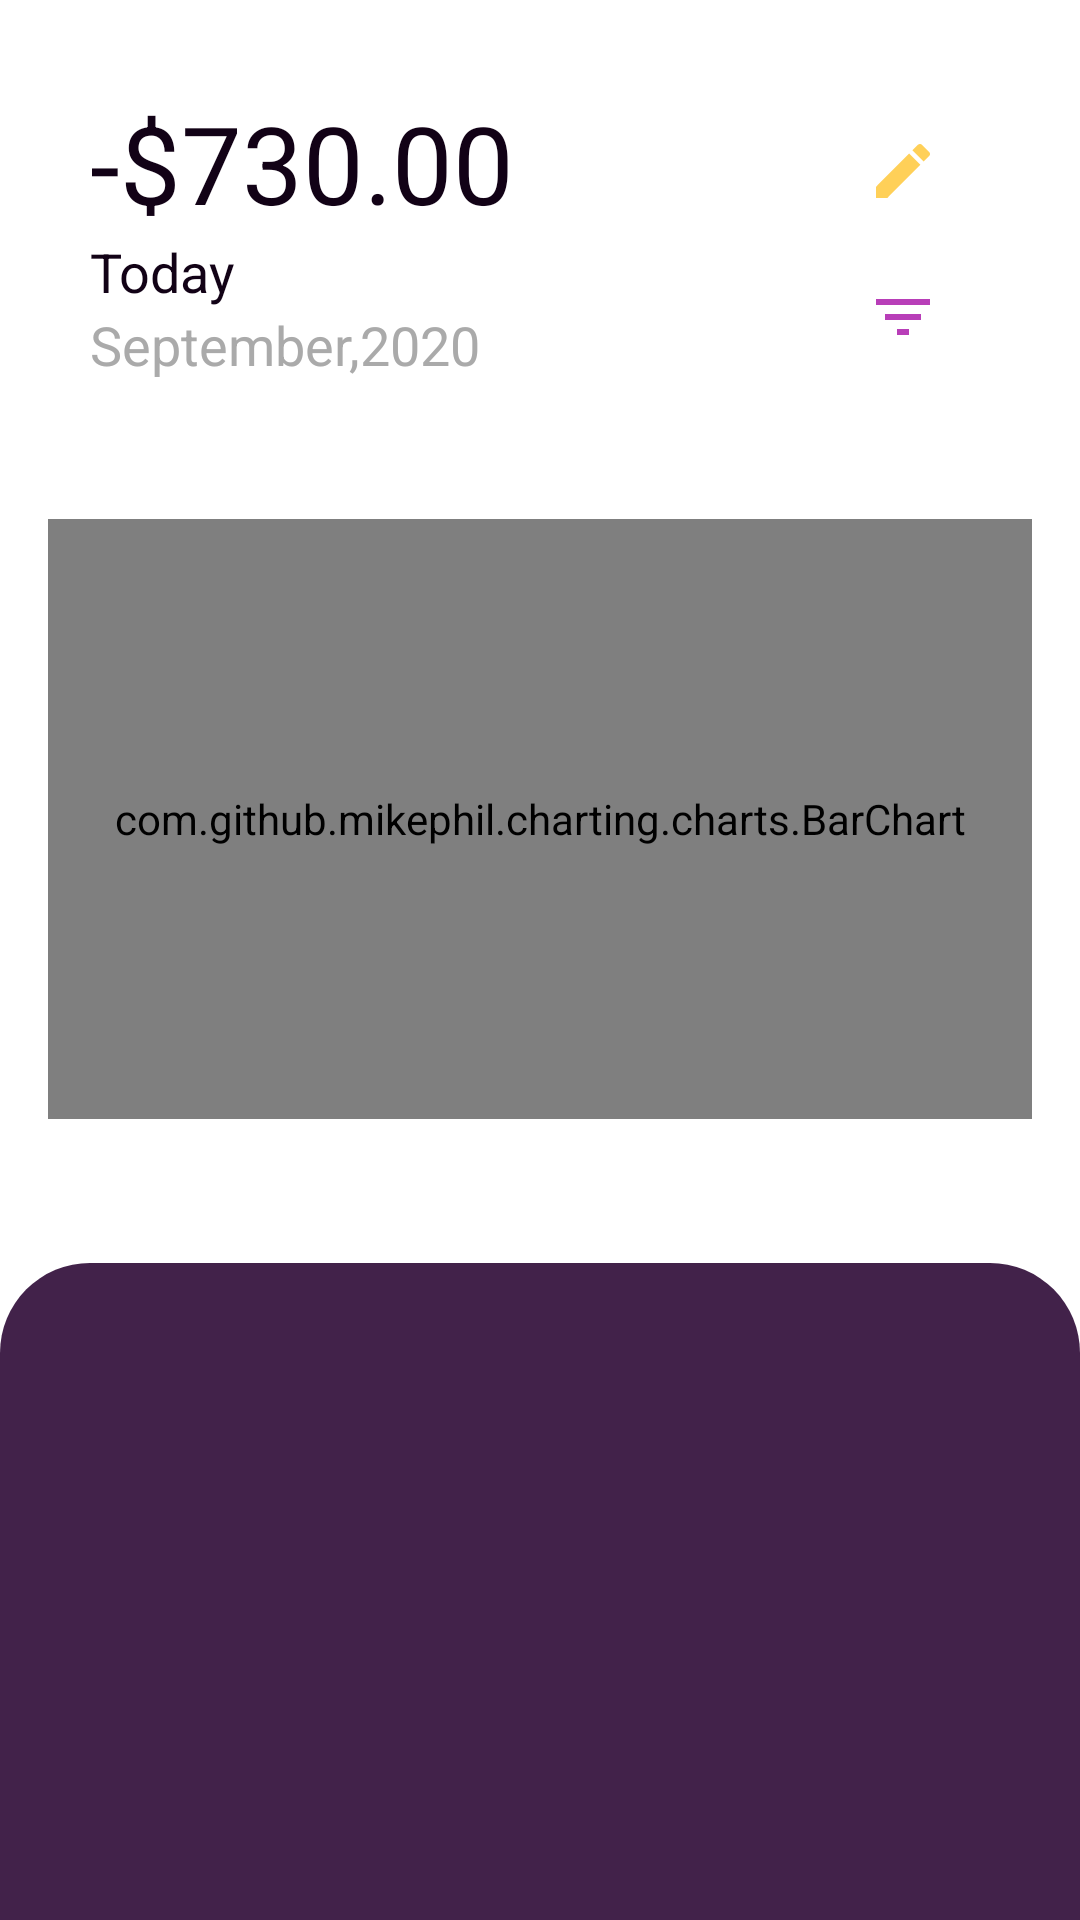

Icons on this 1080px x 1920px Android screen, each with its box as detection(x1, y1, x2, y2):
edit: detection(876, 144, 930, 198)
filter list: detection(876, 299, 930, 335)
